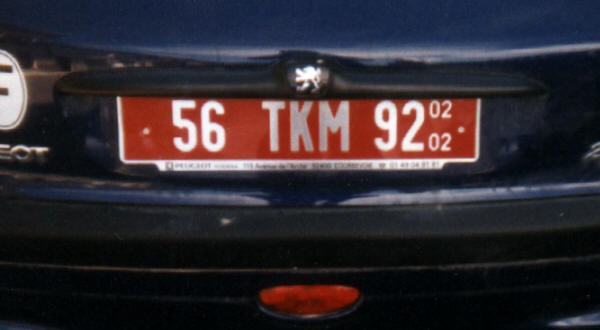license_plate: (117, 94, 481, 165)
